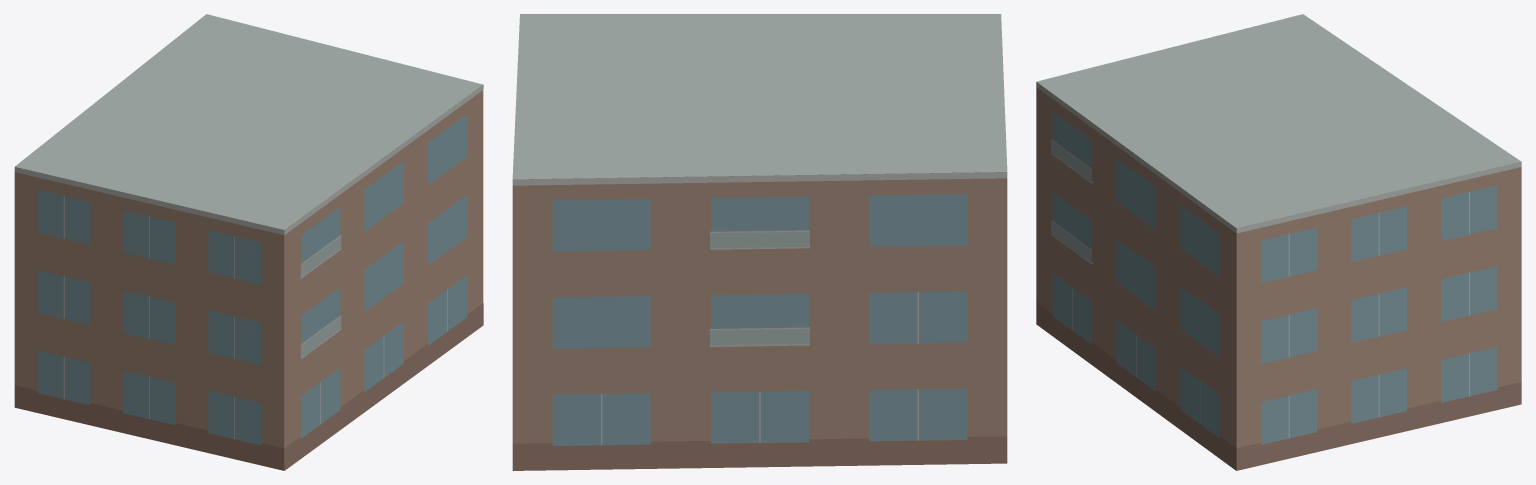
File: survey-upis-32954850.glb
The picture shows the model from 3 angles, left to right: view 1: azimuth 30°, elevation 25°; view 2: azimuth 150°, elevation 25°; view 3: azimuth 270°, elevation 25°; orthographic projection. The views are drawn at different scales.
Visible parts, largest first — view 1: survey-upis-32954850.tmp; view 2: survey-upis-32954850.tmp; view 3: survey-upis-32954850.tmp.
Part boxes in pixels (x1,y1,x2,y2): survey-upis-32954850.tmp: (14, 14, 483, 470); survey-upis-32954850.tmp: (512, 14, 1007, 470); survey-upis-32954850.tmp: (1036, 14, 1521, 470).
Bounding box in the file's own units: 21.22 × 11.2 × 20.31.
